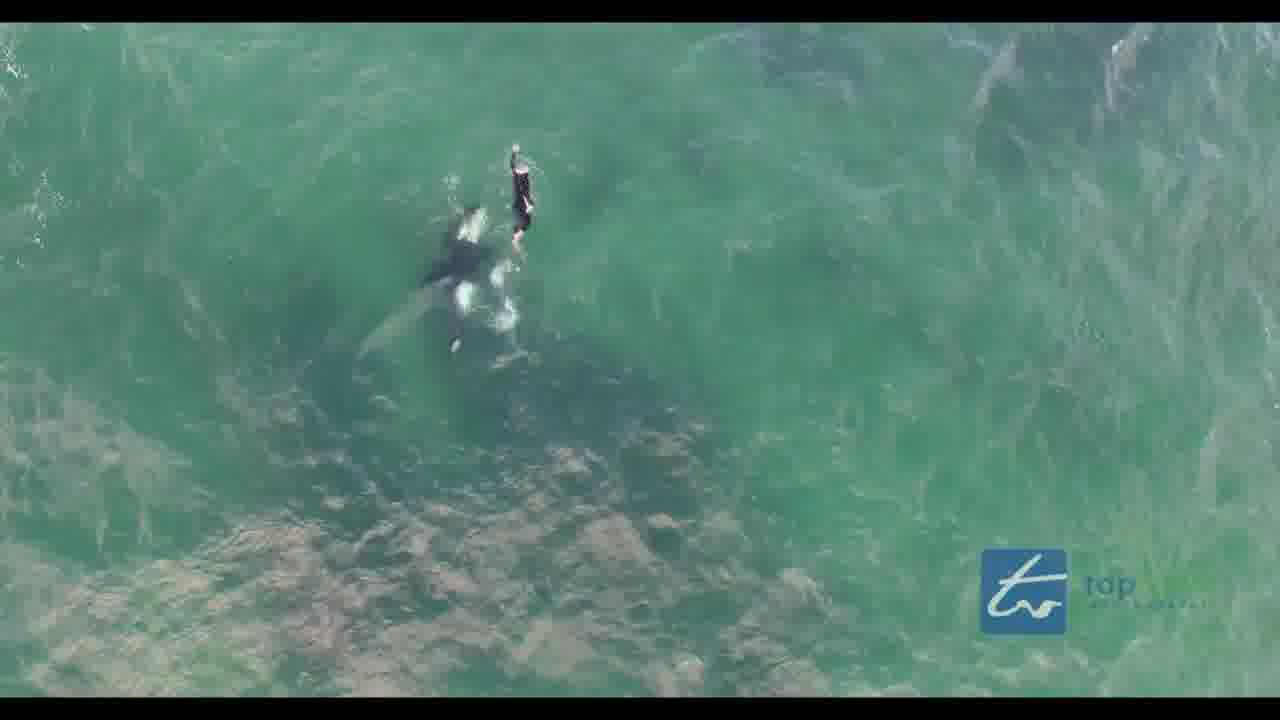swimmer: (497, 134, 546, 251)
